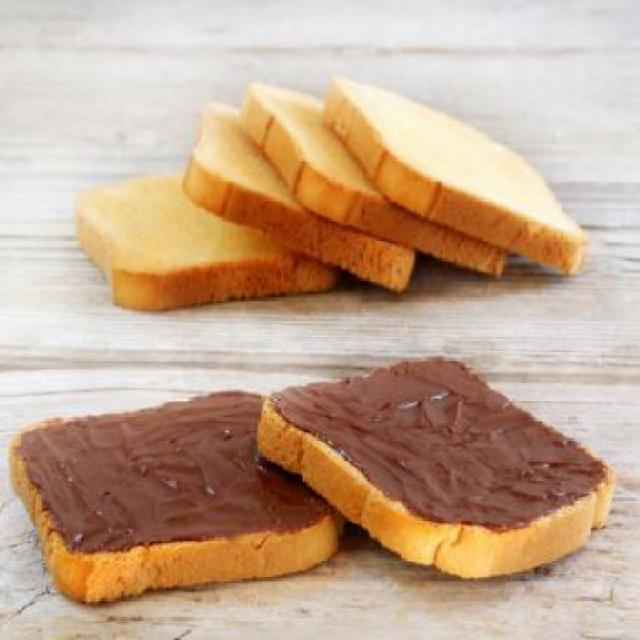Bread: (320, 66, 602, 282)
Spread: (270, 359, 613, 543), (4, 388, 336, 552)
